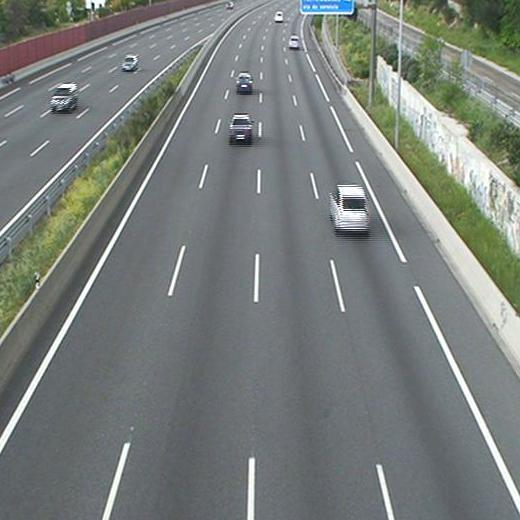car: (330, 185, 370, 230), (229, 115, 253, 139), (236, 73, 253, 91), (289, 35, 300, 48), (274, 12, 283, 23)
